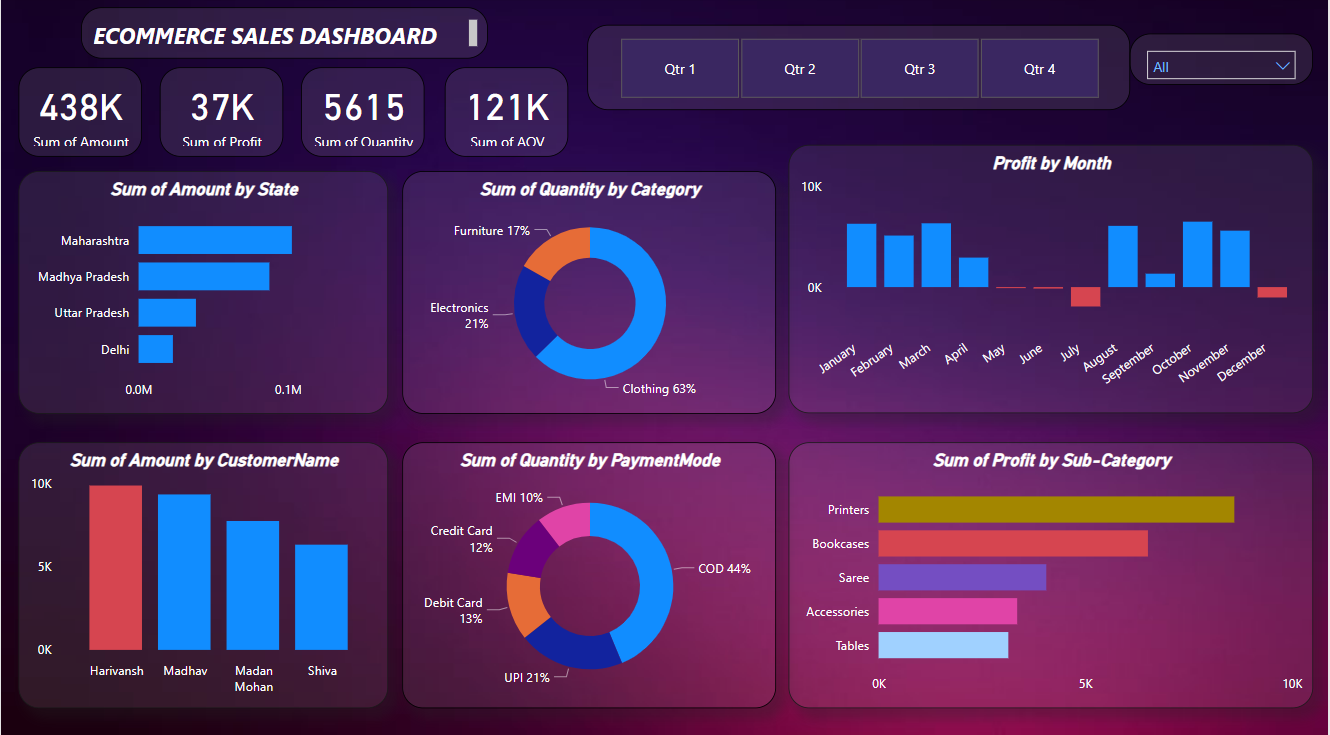

Layout of this report page (visuals, bound fields, positions):
{"tool":"powerbi","page":{"name":"Ecommerce Sales Dashboard","canvas":[1280,720],"ordinal":0},"visuals":[{"type":"textbox","box":[76.8,11,392.5,49.4],"z":0},{"type":"columnChart","title":"Profit by Month","fields":{"Category":["Orders.Order Date.Variation.Date Hierarchy.Month"],"Y":["Sum(Details.Profit)"]},"box":[760.2,144.1,506.3,259.3],"z":1000},{"type":"barChart","fields":{"Category":["Details.Sub-Category"],"Y":["Sum(Details.Profit)"]},"box":[760.2,430.9,506.3,256.6],"z":2000},{"type":"donutChart","fields":{"Category":["Details.Category"],"Y":["Sum(Details.Quantity)"]},"box":[387,168.8,360.9,234.6],"z":3000},{"type":"donutChart","fields":{"Category":["Details.PaymentMode"],"Y":["Sum(Details.Quantity)"]},"box":[387,430.9,360.9,256.6],"z":4000},{"type":"card","fields":{"Values":["Sum(Details.Amount)"]},"box":[16.5,68.6,119.4,86.4],"z":5000},{"type":"card","fields":{"Values":["Sum(Details.Quantity)"]},"box":[289.5,68.6,119.4,86.4],"z":6000},{"type":"card","fields":{"Values":["Sum(Details.Profit)"]},"box":[153.7,68.6,119.4,86.4],"z":7000},{"type":"card","fields":{"Values":["Sum(Details.AOV)"]},"box":[428.1,68.6,119.4,86.4],"z":8000},{"type":"barChart","fields":{"Category":["Orders.State"],"Y":["Sum(Details.Amount)"]},"box":[16.5,168.8,356.8,234.6],"z":9000},{"type":"columnChart","fields":{"Category":["Orders.CustomerName"],"Y":["Sum(Details.Amount)"]},"box":[16.5,430.9,356.8,256.6],"z":10000},{"type":"slicer","fields":{"Values":["Orders.Order Date.Variation.Date Hierarchy.Quarter"]},"box":[565.4,27.4,524.2,82.3],"z":11000},{"type":"slicer","fields":{"Values":["Orders.State"]},"box":[1089.5,35.7,177,49.4],"z":12000}]}

Visuals, with their boxes in screenshot pixels (x1, y1, x2, y2), scaled from the page's 1280x720 canvas onto the 1330x735 screenshot:
textbox: 80, 11, 488, 62
"Profit by Month" columnChart: 790, 147, 1316, 412
barChart - Details.Sub-Category x Sum(Details.Profit): 790, 440, 1316, 702
donutChart - Details.Category x Sum(Details.Quantity): 402, 172, 777, 412
donutChart - Details.PaymentMode x Sum(Details.Quantity): 402, 440, 777, 702
card - Sum(Details.Amount): 17, 70, 141, 158
card - Sum(Details.Quantity): 301, 70, 425, 158
card - Sum(Details.Profit): 160, 70, 284, 158
card - Sum(Details.AOV): 445, 70, 569, 158
barChart - Orders.State x Sum(Details.Amount): 17, 172, 388, 412
columnChart - Orders.CustomerName x Sum(Details.Amount): 17, 440, 388, 702
slicer - Orders.Order Date.Variation.Date Hierarchy.Quarter: 587, 28, 1132, 112
slicer - Orders.State: 1132, 36, 1316, 87
